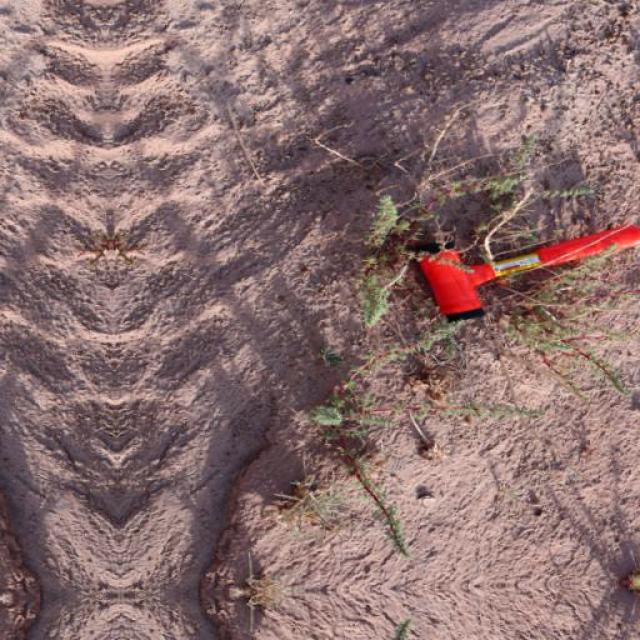mallet: (412, 218, 638, 322)
